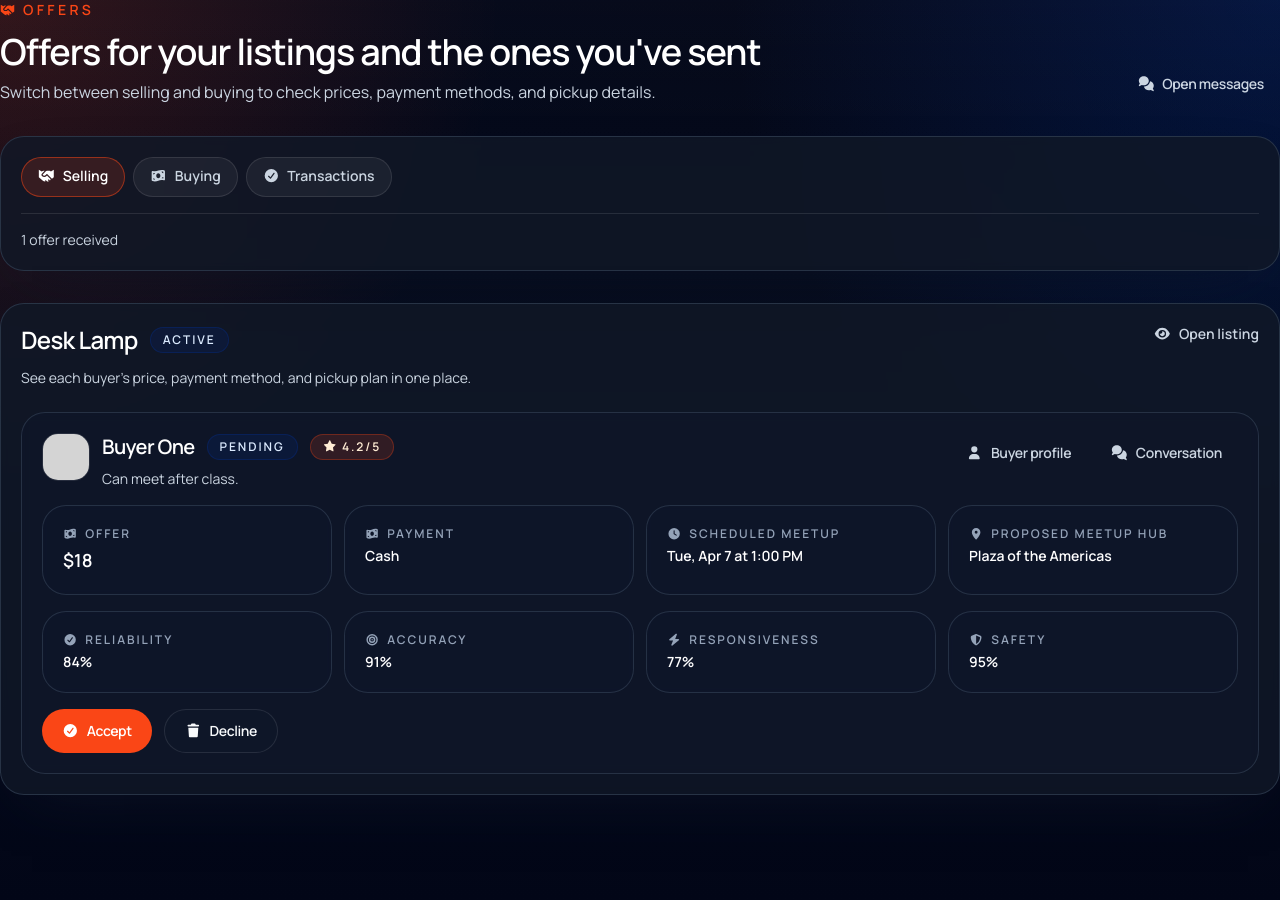
Test case: seller mode requires meetup specifics before accepting an offer
The image size is (1280, 900).
Click the button "Accept" at (97, 731), box [42,709,152,753]
(page scrolled)
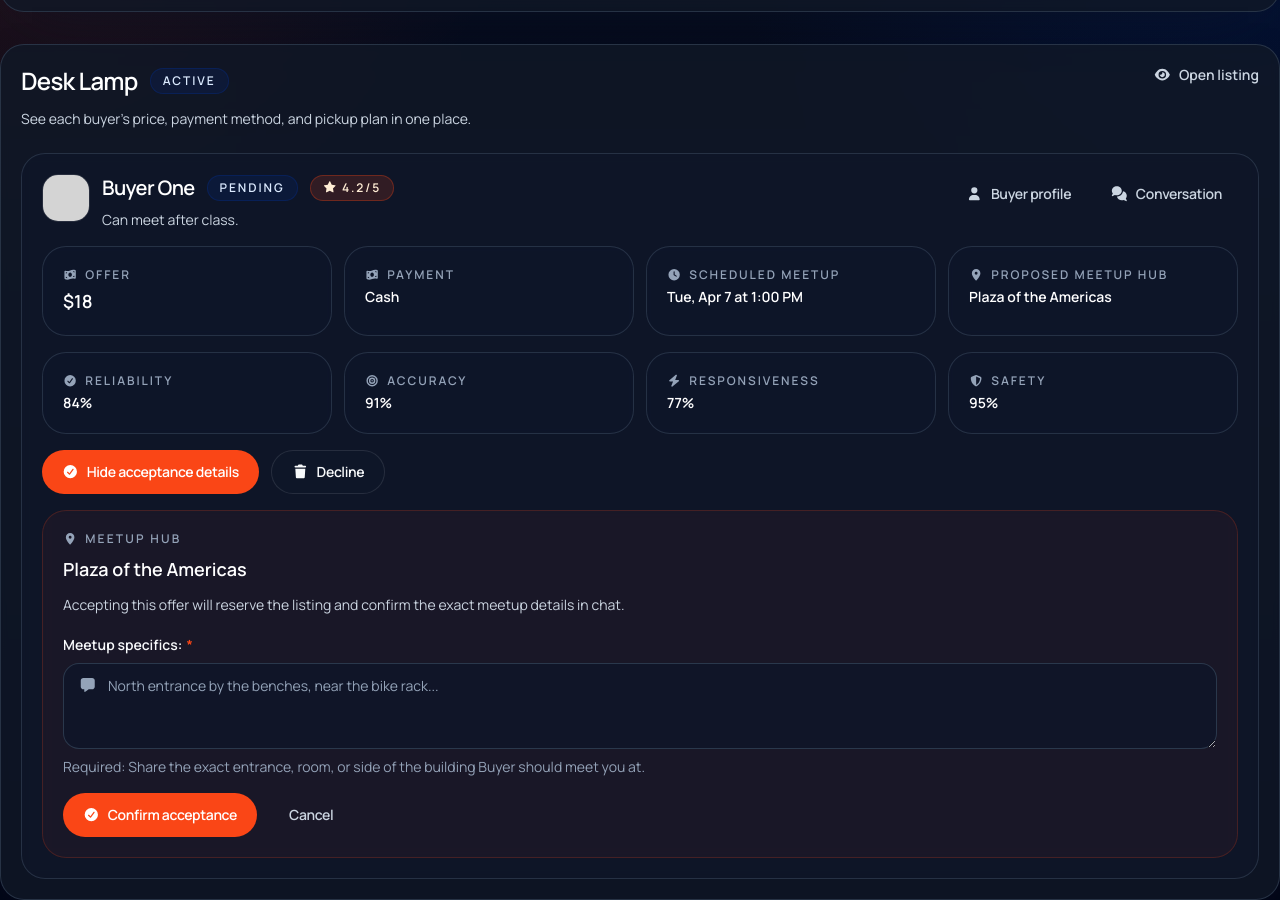
Click the button "Confirm acceptance" at (160, 815), box [63,793,257,837]
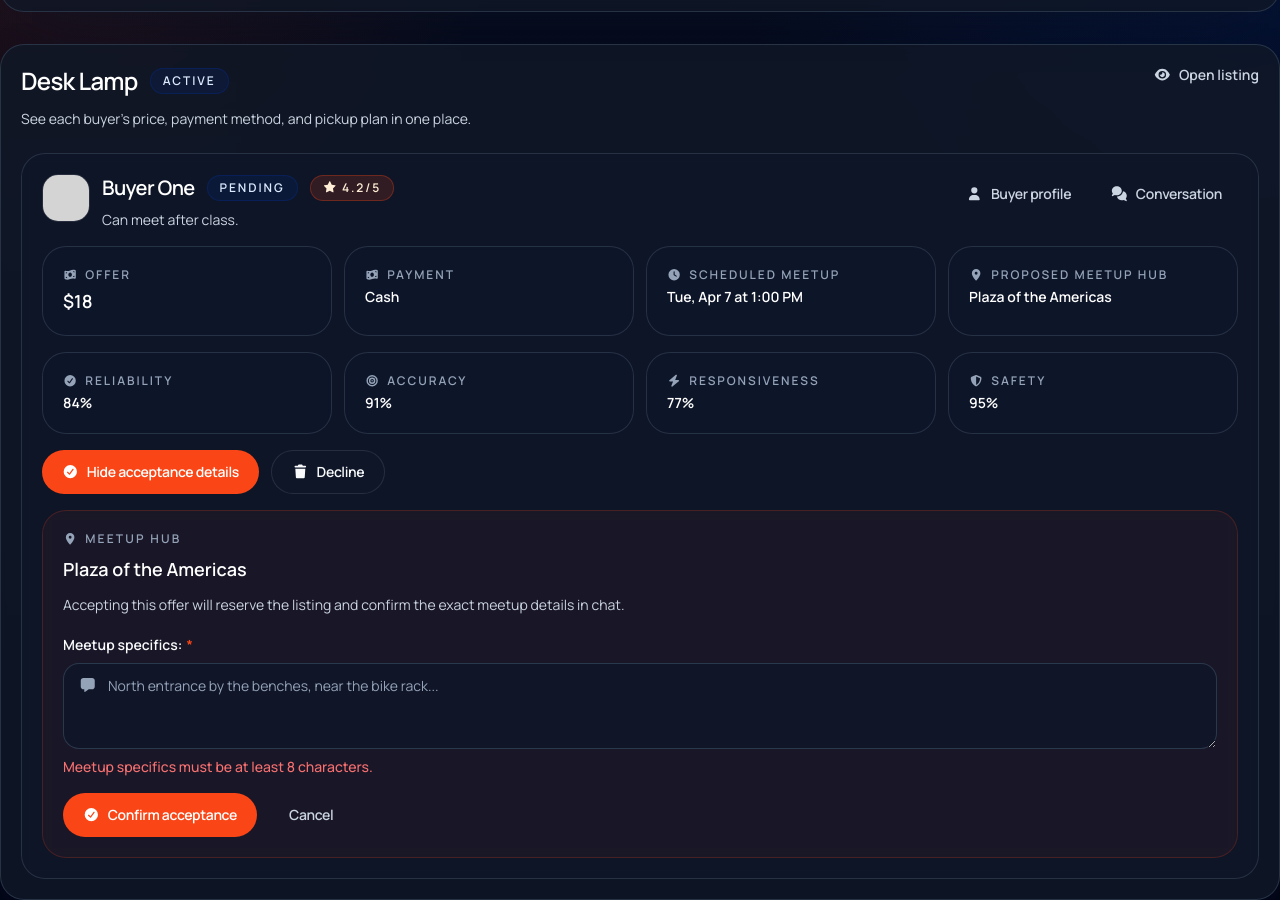
Expected: the text "Meetup specifics must be at least 8 characters." is shown, [63,757,373,776]
